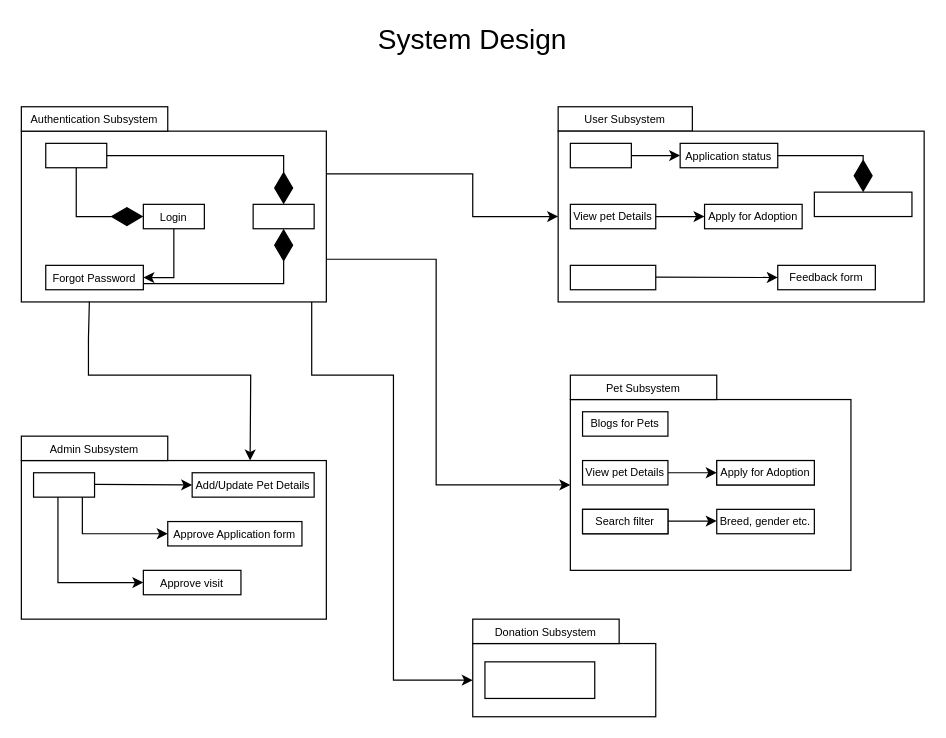
This 946x738 diagram has some shape labels left out. Here are the shapes that lost their labels. From the top down, the centre of each, then its label:
At (76,155): "Signup".
At (600,155): "User profile".
At (283,216): "OTP".
At (862,204): "Schedule Visit".
At (612,277): "Pet Adopted".
At (63,484): "Admin".
At (539,679): "Donate".
